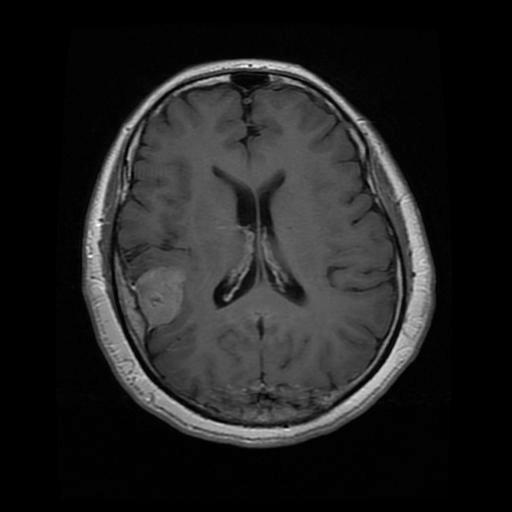Tumour-Meningioma: (106, 248, 186, 342)
